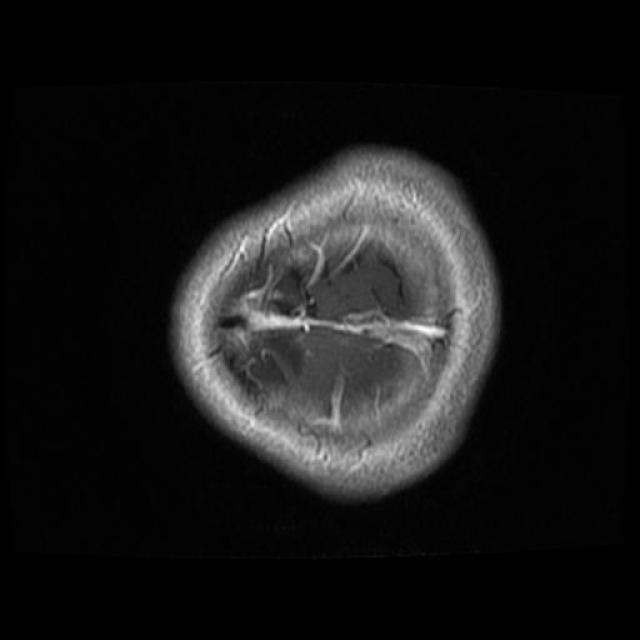Glioma: (232, 330, 306, 391)
